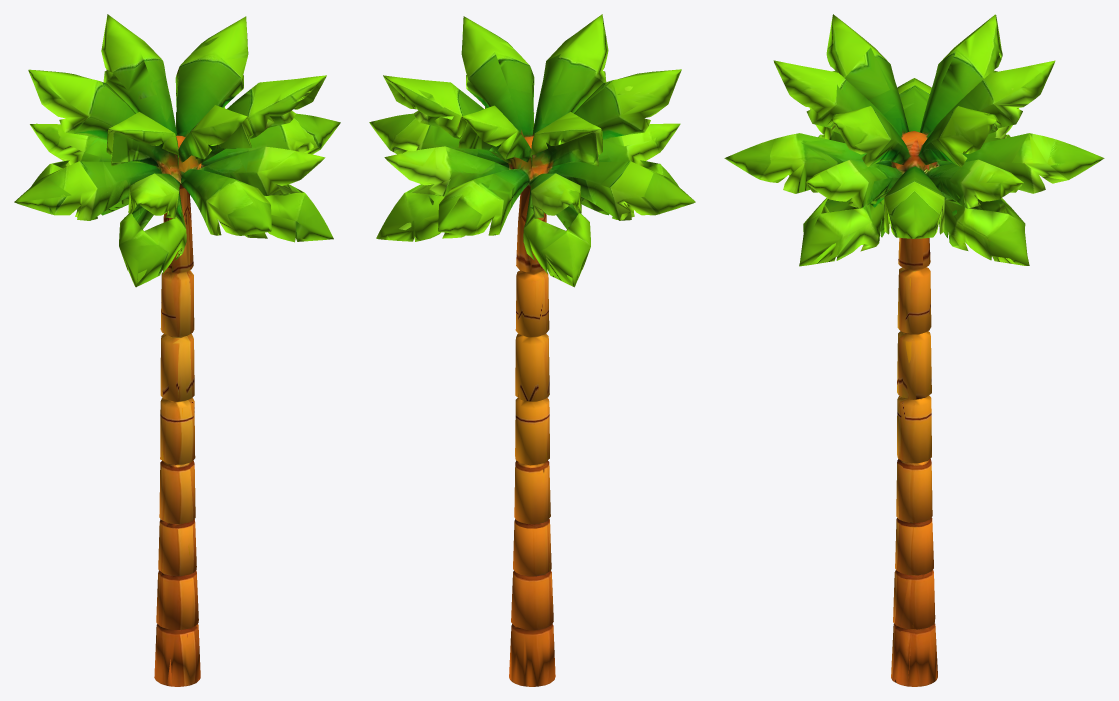
Rendered from palm.glb.
3 views of the same model, side by side, from view 1: azimuth 30°, elevation 25°; view 2: azimuth 150°, elevation 25°; view 3: azimuth 270°, elevation 25° (orthographic).
Visible parts, largest first — view 1: Mesh_0; view 2: Mesh_0; view 3: Mesh_0.
Boxes of the visible parts, left/top/right/bottom form: Mesh_0: left=14, top=14, right=340, bottom=686; Mesh_0: left=369, top=14, right=695, bottom=686; Mesh_0: left=724, top=14, right=1104, bottom=686.
Bounding box in the file's own units: 1.06 × 1.9 × 1.06.
1 material, 1 textured.
